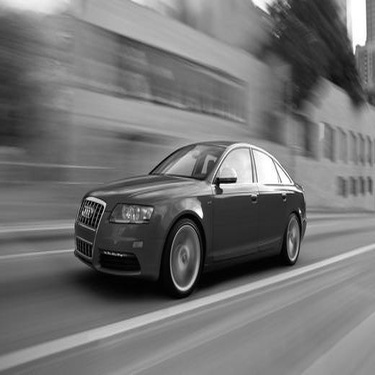car: (62, 133, 313, 298)
